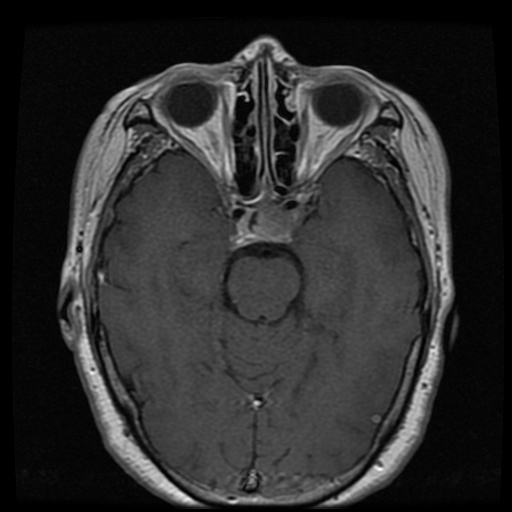pituitary: (255, 197, 300, 239)
